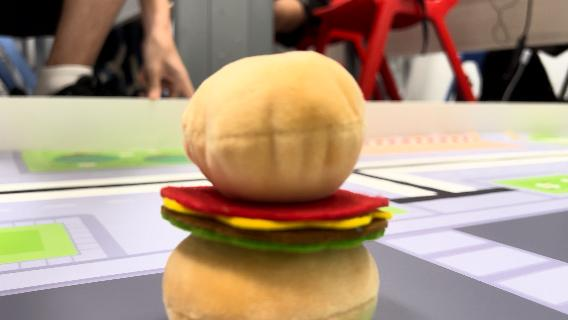burger: (162, 51, 392, 319)
